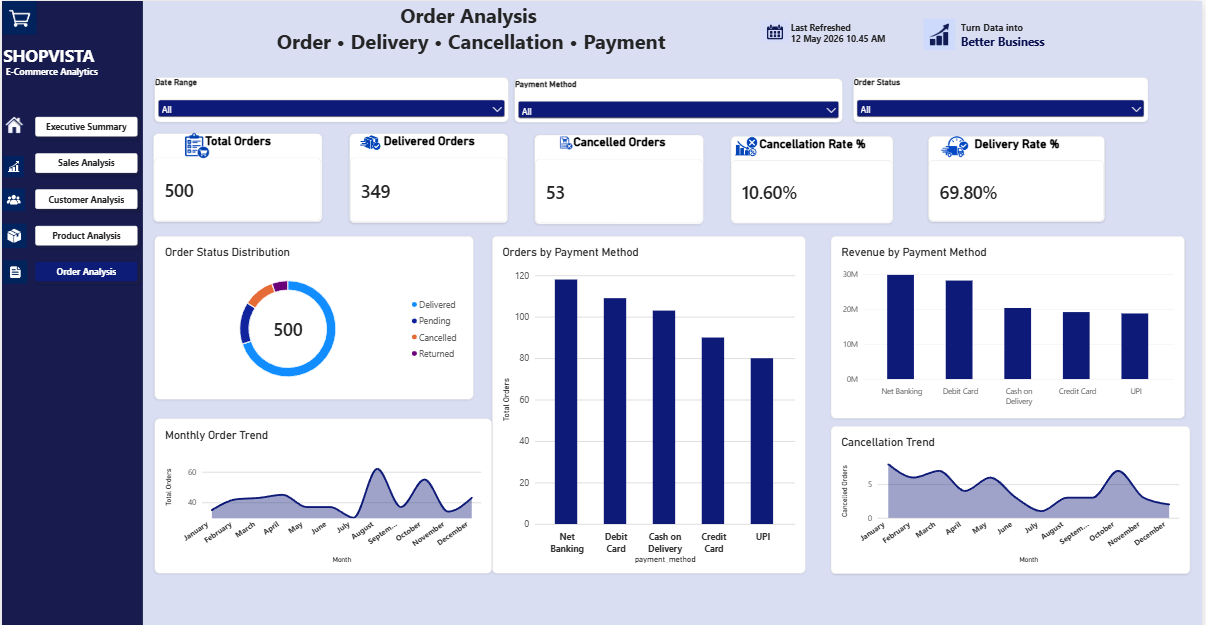

The dashboard page shown, as its layout file describes it:
{"tool":"powerbi","page":{"name":"Order Analysis","canvas":[1920,1080],"ordinal":4},"visuals":[{"type":"cardVisual","title":"Total Orders","fields":{"Data":["orders.Total Orders"]},"box":[242.9,212.9,270,141.4],"z":0},{"type":"cardVisual","title":"Delivered Orders","fields":{"Data":["DateTable.Delivered Orders"]},"box":[556.4,212.7,253.3,143.3],"z":1000},{"type":"cardVisual","title":"Delivery Rate %","fields":{"Data":["DateTable.Delivery Rate %"]},"box":[1481.4,216.4,282.1,137.9],"z":2000},{"type":"cardVisual","title":"Cancelled Orders","fields":{"Data":["DateTable.Cancelled Orders"]},"box":[852.1,213.6,270,142.9],"z":3000},{"type":"cardVisual","title":"Cancellation Rate %","fields":{"Data":["DateTable.Cancellation Rate %"]},"box":[1165.7,216.4,260,140],"z":4000},{"type":"donutChart","title":"Order Status Distribution","fields":{"Category":["orders.status"],"Y":["orders.Total Orders"]},"box":[243.3,376.7,510,261.7],"z":5000},{"type":"clusteredColumnChart","title":"Orders by Payment Method","fields":{"Category":["orders.payment_method"],"Y":["orders.Total Orders"]},"box":[783.3,376.7,501.7,540],"z":6000},{"type":"lineChart","title":"Cancellation Trend","fields":{"Category":["DateTable.Date.Variation.Date Hierarchy.Month"],"Y":["DateTable.Cancelled Orders"]},"box":[1325,680,575,236.7],"z":7000},{"type":"clusteredColumnChart","title":"Revenue by Payment Method","fields":{"Category":["orders.payment_method"],"Y":["order_items.Total Revenue"]},"box":[1325,376.7,566.7,291.7],"z":8000},{"type":"slicer","title":"Date Range","fields":{"Values":["DateTable.Date"]},"box":[243.3,121.7,566.7,71.7],"z":9000},{"type":"slicer","title":"Order Status","fields":{"Values":["orders.status"]},"box":[1361.7,121.7,471.7,71.7],"z":10000},{"type":"slicer","title":"Payment Method","fields":{"Values":["orders.payment_method"]},"box":[820,123.3,525,70],"z":11000},{"type":"textbox","box":[363.3,0,773.3,106.7],"z":12000},{"type":"shape","box":[0,0,225.5,1080],"z":13000},{"type":"textbox","box":[2.7,67.3,188.2,101.8],"z":14000},{"type":"image","box":[2.7,180,35.5,36.4],"z":16000},{"type":"image","box":[0,247.3,37.5,33.3],"z":18000},{"type":"image","box":[0.9,300,37.5,35.8],"z":20000},{"type":"image","box":[0,352.7,39,47],"z":22000},{"type":"image","box":[2.7,413.6,38,39],"z":24000},{"type":"image","box":[0,0,57.3,53.6],"z":25000},{"type":"textbox","box":[1262.5,32.5,206.2,55],"z":26000},{"type":"image","box":[1209.2,32.5,53.3,34.2],"z":27000},{"type":"textbox","box":[1534.4,32.2,147.8,54.4],"z":28000},{"type":"image","box":[1466.7,27.8,67.8,50],"z":29000},{"type":"lineChart","title":"Monthly Order Trend","fields":{"Category":["DateTable.Date.Variation.Date Hierarchy.Month"],"Y":["orders.Total Orders"]},"box":[243.3,668.3,540,248.3],"z":35000},{"type":"image","box":[883.6,213.6,36.4,24.5],"z":37001},{"type":"image","box":[286.4,208.2,50,45.7],"z":37002},{"type":"image","box":[1500.9,201.8,47.1,61.4],"z":37003},{"type":"image","box":[1165.7,213.6,47.9,36.4],"z":37004},{"type":"image","box":[566.4,210.9,45.5,30],"z":37005},{"type":"pageNavigator","box":[43.6,175.5,182.2,284.4],"z":37006}]}

Visuals, with their boxes on the page's 1920x1080 design canvas (x1, y1, x2, y2). These are canvas units, not pixel positions in the 1206x625 screenshot, which may show the page scaled, cropped or inside an application window:
"Total Orders" cardVisual: 243:213:513:354
"Delivered Orders" cardVisual: 556:213:810:356
"Delivery Rate %" cardVisual: 1481:216:1764:354
"Cancelled Orders" cardVisual: 852:214:1122:356
"Cancellation Rate %" cardVisual: 1166:216:1426:356
"Order Status Distribution" donutChart: 243:377:753:638
"Orders by Payment Method" clusteredColumnChart: 783:377:1285:917
"Cancellation Trend" lineChart: 1325:680:1900:917
"Revenue by Payment Method" clusteredColumnChart: 1325:377:1892:668
"Date Range" slicer: 243:122:810:193
"Order Status" slicer: 1362:122:1833:193
"Payment Method" slicer: 820:123:1345:193
textbox: 363:0:1137:107
shape: 0:0:226:1080
textbox: 3:67:191:169
image: 3:180:38:216
image: 0:247:38:281
image: 1:300:38:336
image: 0:353:39:400
image: 3:414:41:453
image: 0:0:57:54
textbox: 1262:32:1469:88
image: 1209:32:1262:67
textbox: 1534:32:1682:87
image: 1467:28:1534:78
"Monthly Order Trend" lineChart: 243:668:783:917
image: 884:214:920:238
image: 286:208:336:254
image: 1501:202:1548:263
image: 1166:214:1214:250
image: 566:211:612:241
pageNavigator: 44:176:226:460
